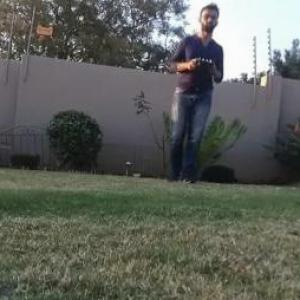follow: (154, 0, 229, 189)
